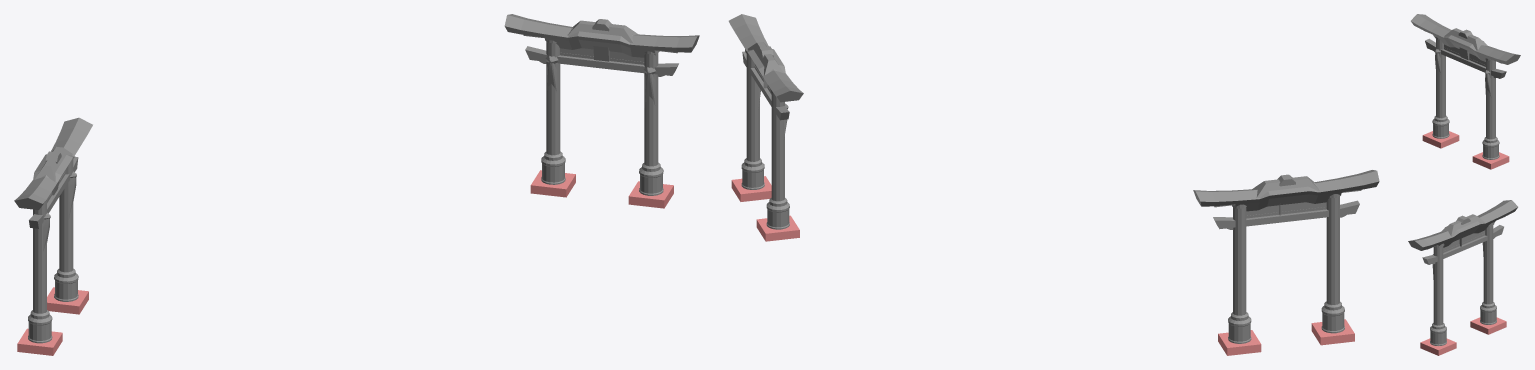
File: COL_SM_ENV_KNVLLG03_Torii.gltf
3 views of the same model, side by side, from view 1: azimuth 30°, elevation 25°; view 2: azimuth 150°, elevation 25°; view 3: azimuth 270°, elevation 25° (orthographic). The views are drawn at different scales.
Visible parts, largest first — view 1: COL_SM_ENV_KNVLLG03_Torii; view 2: COL_SM_ENV_KNVLLG03_Torii; view 3: COL_SM_ENV_KNVLLG03_Torii.
Part boxes in pixels (left/top/right/bottom): COL_SM_ENV_KNVLLG03_Torii: left=14, top=14, right=699, bottom=355; COL_SM_ENV_KNVLLG03_Torii: left=728, top=14, right=1379, bottom=355; COL_SM_ENV_KNVLLG03_Torii: left=1408, top=14, right=1520, bottom=355.
Size of the model in its own units: 54.56 by 13.11 by 11.19.
